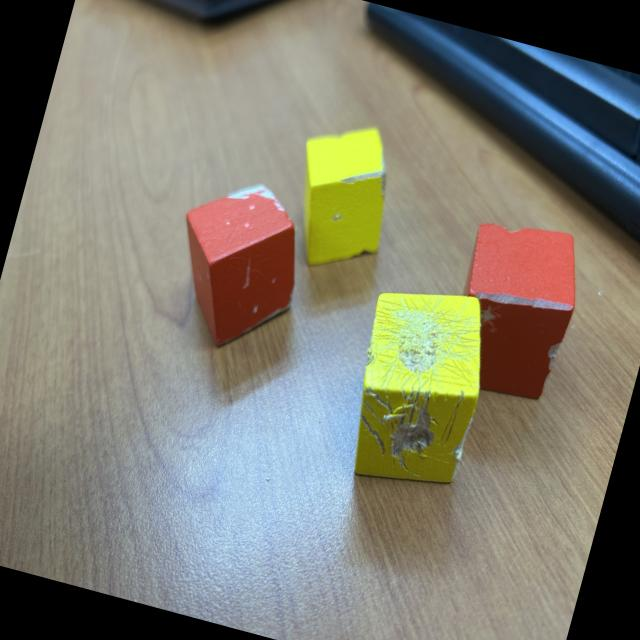broken: (331, 270, 505, 502), (153, 165, 320, 363), (436, 209, 593, 408), (272, 110, 409, 284)
